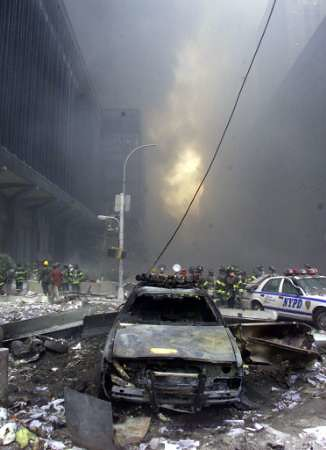building: (1, 1, 137, 271)
car: (98, 268, 260, 414)
police car: (255, 266, 326, 341)
smoke: (128, 1, 326, 264)
